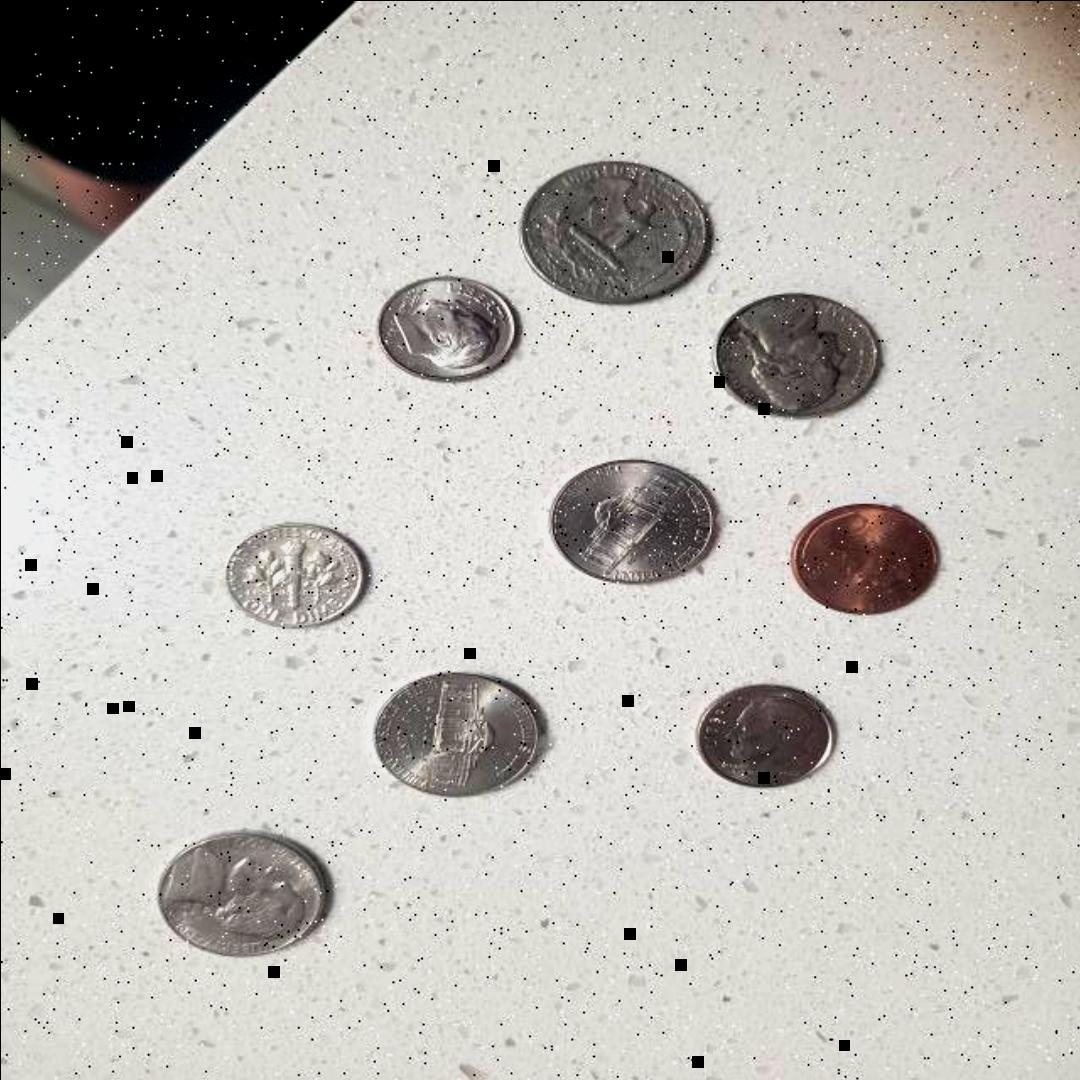Dime: (371, 270, 521, 388), (224, 517, 368, 633), (698, 683, 838, 789)
Nickel: (154, 829, 332, 958), (366, 673, 546, 799), (548, 456, 720, 586), (714, 294, 884, 418)
Penny: (790, 494, 945, 622)
Quarter: (517, 153, 719, 308)
